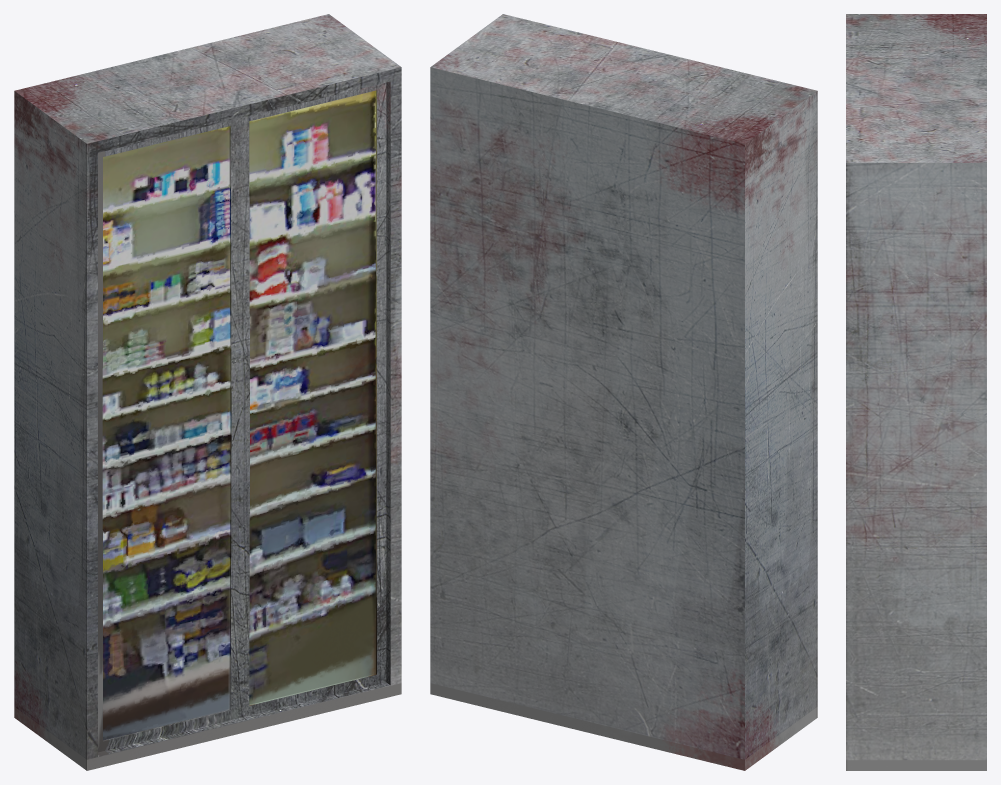
Rendered from HospitalCloset.FBX.
The picture shows the model from 3 angles, left to right: view 1: azimuth 30°, elevation 25°; view 2: azimuth 150°, elevation 25°; view 3: azimuth 270°, elevation 25°; orthographic projection. The views are drawn at different scales.
Visible parts, largest first — view 1: FBX_PolyGroup_0000; view 2: FBX_PolyGroup_0000; view 3: FBX_PolyGroup_0000.
Part boxes in pixels (box(x1,y1,x2,y2)): FBX_PolyGroup_0000: box(14, 14, 401, 770); FBX_PolyGroup_0000: box(430, 14, 817, 770); FBX_PolyGroup_0000: box(846, 14, 986, 770).
Size of the model in its own units: 0.4134 by 0.7874 by 0.1654.
